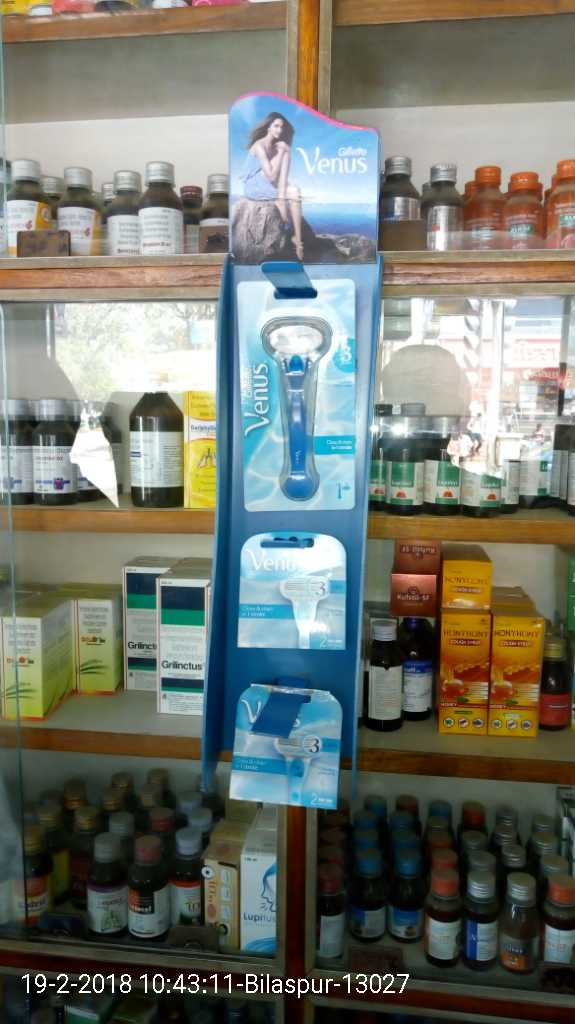venus: (242, 280, 355, 511), (230, 686, 345, 814), (238, 536, 352, 649)
